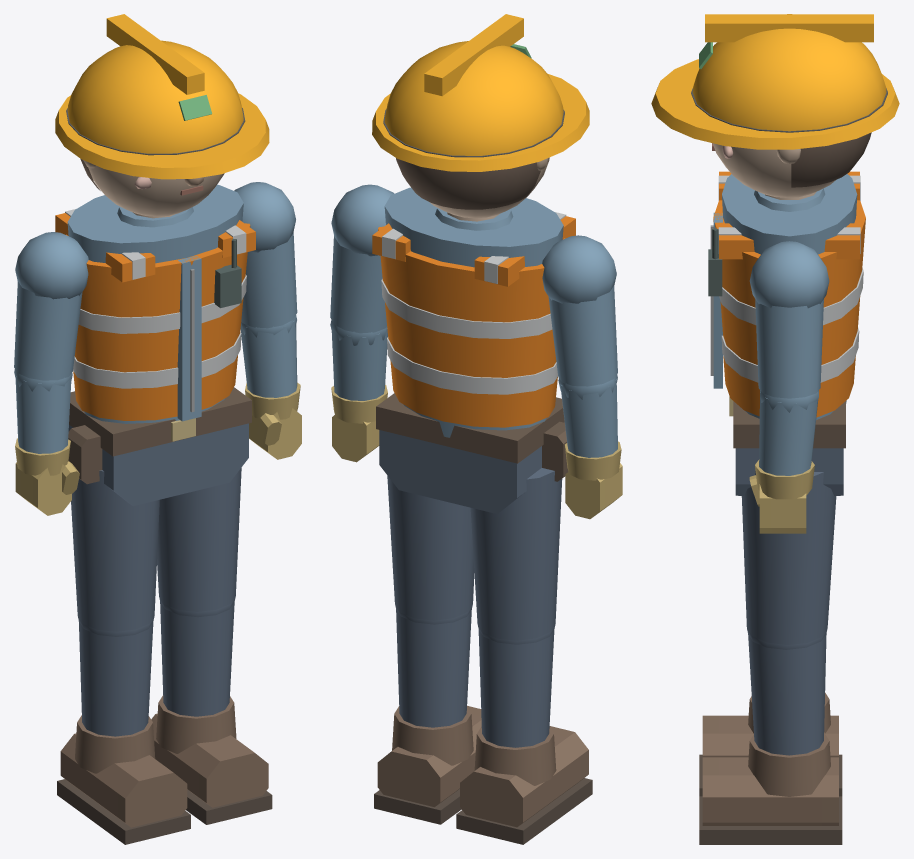
The model's file is worker.glb.
3 renders of one model, left to right at view 1: azimuth 30°, elevation 25°; view 2: azimuth 150°, elevation 25°; view 3: azimuth 270°, elevation 25°, orthographic. The views are drawn at different scales.
Parts seen in each view (by area): view 1: torso_mesh, helmet, shin_r_mesh, vest, shin_l_mesh, hips_mesh, leg_r_mesh, leg_l_mesh, forearm_r_mesh, forearm_l_mesh, head_mesh, arm_r_mesh (+1 smaller); view 2: torso_mesh, helmet, vest, shin_r_mesh, shin_l_mesh, hips_mesh, leg_r_mesh, leg_l_mesh, forearm_r_mesh, forearm_l_mesh, head_mesh, arm_r_mesh (+1 smaller); view 3: helmet, shin_l_mesh, torso_mesh, leg_l_mesh, vest, forearm_l_mesh, head_mesh, arm_l_mesh, hips_mesh, shin_r_mesh.
Part boxes in pixels (box(x1,y1,x2,y2)): torso_mesh: box(15, 182, 295, 423); helmet: box(55, 14, 269, 179); shin_r_mesh: box(57, 616, 190, 844); vest: box(55, 213, 255, 420); shin_l_mesh: box(151, 596, 272, 824); hips_mesh: box(68, 387, 251, 505); leg_r_mesh: box(71, 470, 159, 631); leg_l_mesh: box(157, 468, 241, 611); forearm_r_mesh: box(14, 369, 79, 515); forearm_l_mesh: box(240, 315, 301, 459); head_mesh: box(66, 95, 245, 218); arm_r_mesh: box(14, 281, 82, 380); torso_mesh: box(331, 184, 616, 437); helmet: box(372, 14, 589, 171); vest: box(372, 216, 575, 427); shin_r_mesh: box(456, 624, 592, 844); shin_l_mesh: box(374, 604, 481, 824); hips_mesh: box(376, 393, 568, 513); leg_r_mesh: box(470, 468, 562, 640); leg_l_mesh: box(387, 475, 474, 620); forearm_r_mesh: box(558, 374, 622, 519); forearm_l_mesh: box(330, 320, 387, 462); head_mesh: box(383, 44, 564, 221); arm_r_mesh: box(548, 285, 617, 386); helmet: box(651, 14, 899, 149); shin_l_mesh: box(699, 628, 842, 844); torso_mesh: box(708, 174, 863, 419); leg_l_mesh: box(741, 471, 836, 644); vest: box(713, 171, 865, 417); forearm_l_mesh: box(749, 390, 818, 533); head_mesh: box(691, 42, 887, 199); arm_l_mesh: box(755, 299, 823, 398); hips_mesh: box(729, 396, 845, 495); shin_r_mesh: box(699, 692, 842, 796).
Size of the model in its own units: 0.7157 by 1.85 by 0.5288.
